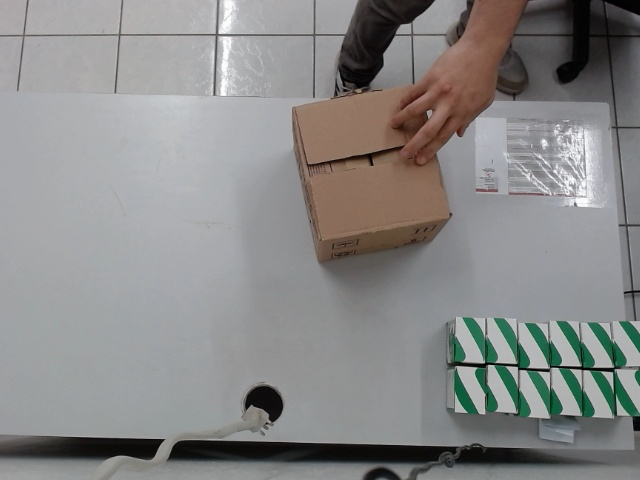caixa_principal: (287, 89, 455, 267)
